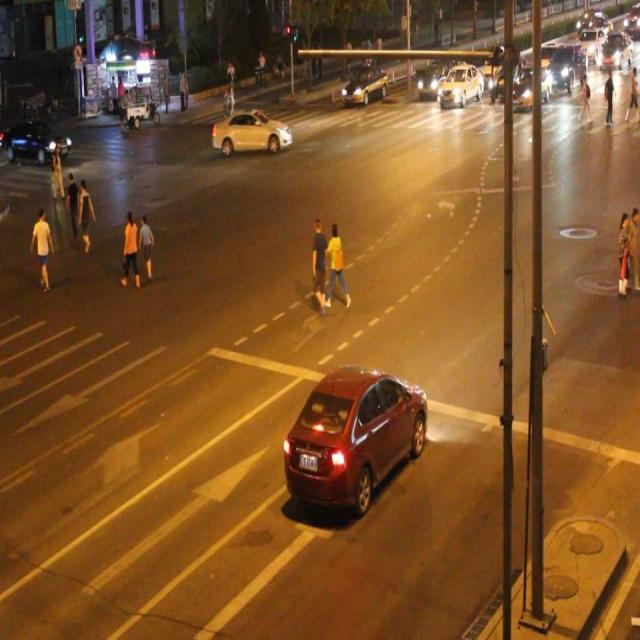car: (280, 362, 426, 516), (212, 110, 292, 155), (1, 116, 72, 166), (437, 63, 482, 105), (341, 68, 388, 106)
